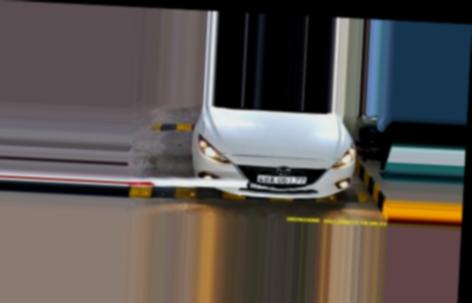License_Plate: (256, 172, 306, 187)
